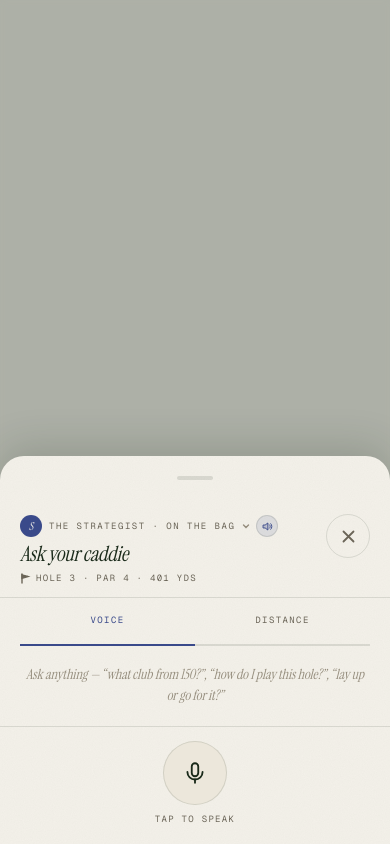
it: CaddieSheet — hands-free conversational loop (specs/caddie-conversational-loop-plan.md) › (6) barge-in stops playback, clears the pending grace timer, and opens the mic manually
Click the button named "Start recording" at [195, 772], box [163, 740, 227, 804]
Wait 400 ms
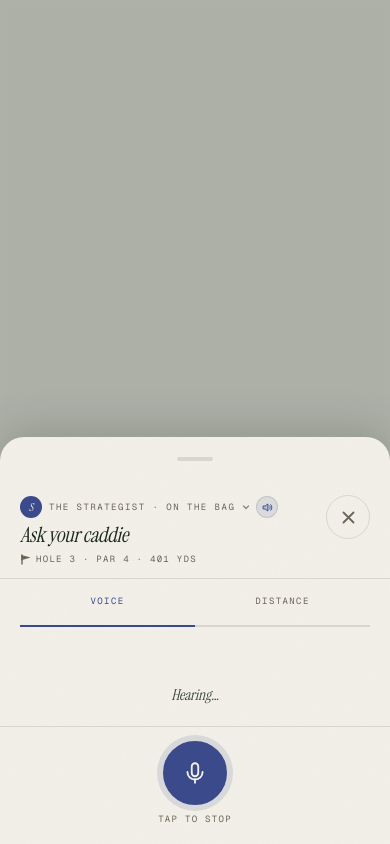
Check: the button named "Stop recording" is shown, box [163, 740, 227, 804]
